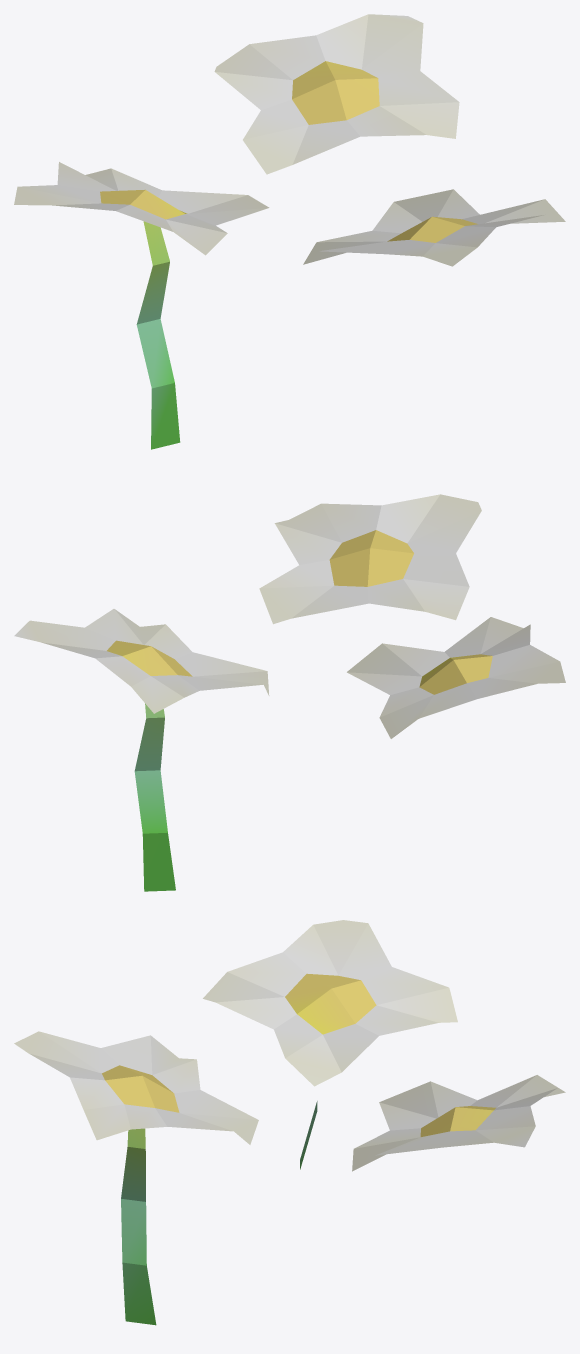
The model's file is Flowers.glb.
3 views of the same model, one above another, from view 1: azimuth 30°, elevation 25°; view 2: azimuth 150°, elevation 25°; view 3: azimuth 270°, elevation 25° (orthographic). The views are drawn at different scales.
Visible parts, largest first — view 1: Plane.002; view 2: Plane.002; view 3: Plane.002.
Boxes of the visible parts, x1=… form: Plane.002: x1=14, y1=14, x2=565, y2=449; Plane.002: x1=14, y1=494, x2=565, y2=891; Plane.002: x1=14, y1=920, x2=565, y2=1325.
Bounding box in the file's own units: 4.18 × 2.16 × 4.29.
